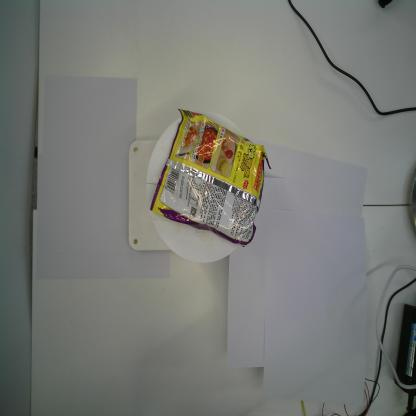Instant Noodles: (149, 106, 273, 250)
